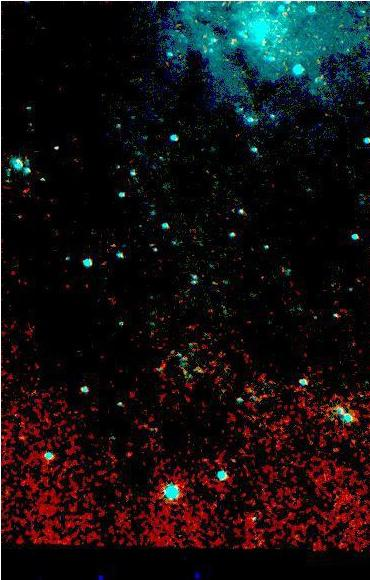star: (113, 438, 143, 468)
